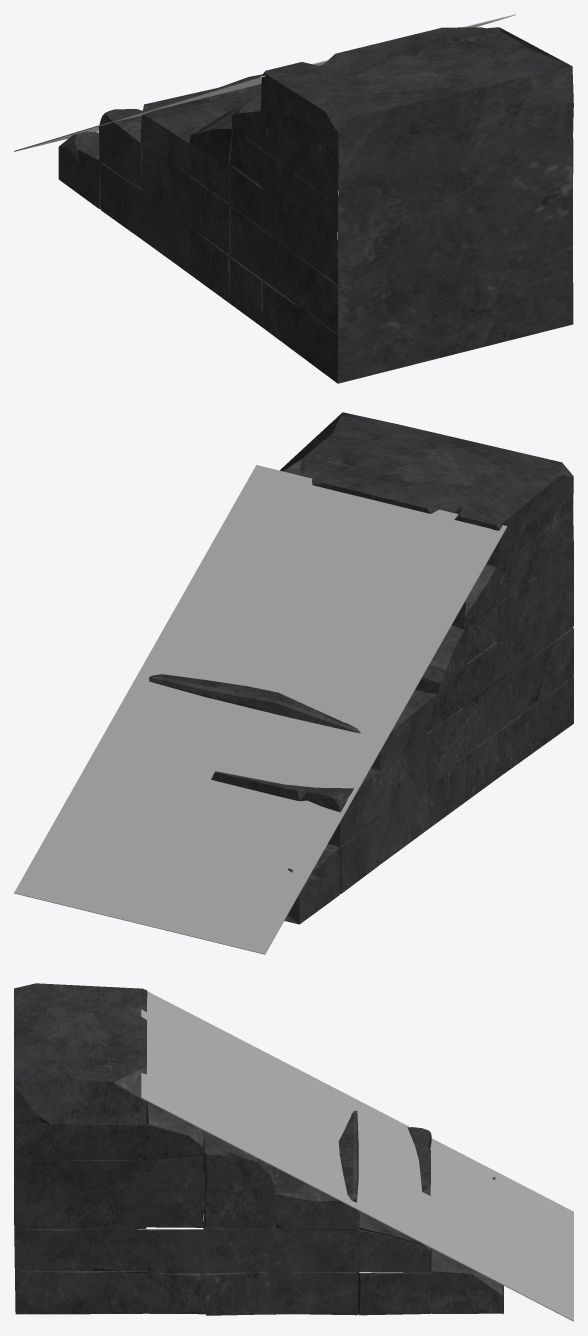
The picture shows the model from 3 angles, top to bottom: view 1: azimuth 30°, elevation 25°; view 2: azimuth 150°, elevation 25°; view 3: azimuth 270°, elevation 25°; orthographic projection. The views are drawn at different scales.
Visible parts, largest first — view 1: Stair_Variation_001, pCube1; view 2: pCube1, Stair_Variation_001; view 3: Stair_Variation_001, pCube1.
Part boxes in pixels (bbox=[...]): Stair_Variation_001: bbox=[58, 27, 573, 383]; pCube1: bbox=[14, 14, 515, 151]; pCube1: bbox=[14, 465, 507, 954]; Stair_Variation_001: bbox=[149, 412, 573, 924]; Stair_Variation_001: bbox=[14, 983, 503, 1315]; pCube1: bbox=[141, 988, 573, 1321].
Bounding box in the file's own units: 306 × 301 × 661.
Materials: 2 (1 with a texture image).
